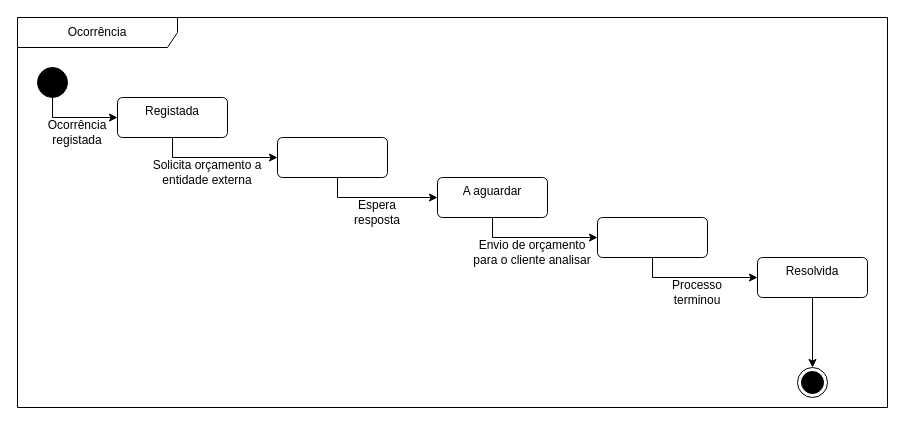
This 905x425 diagram has some shape labels left out. The shapes that lost their labels are listed below. From the top down, each one's centre as x and y in pixels, then its label:
At pixel 332 157: "Orçamento solicitado".
At pixel 652 237: "Proposta enviada".
